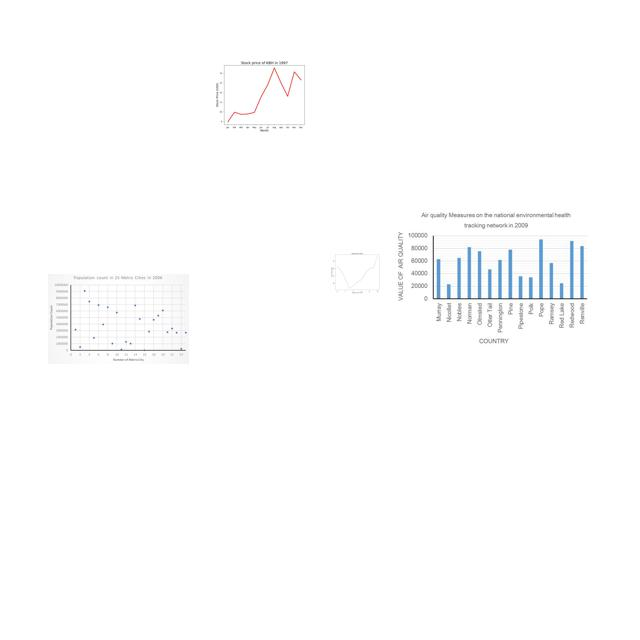Graph: (392, 208, 591, 347), (48, 274, 189, 364), (207, 56, 319, 133), (323, 249, 390, 295)
